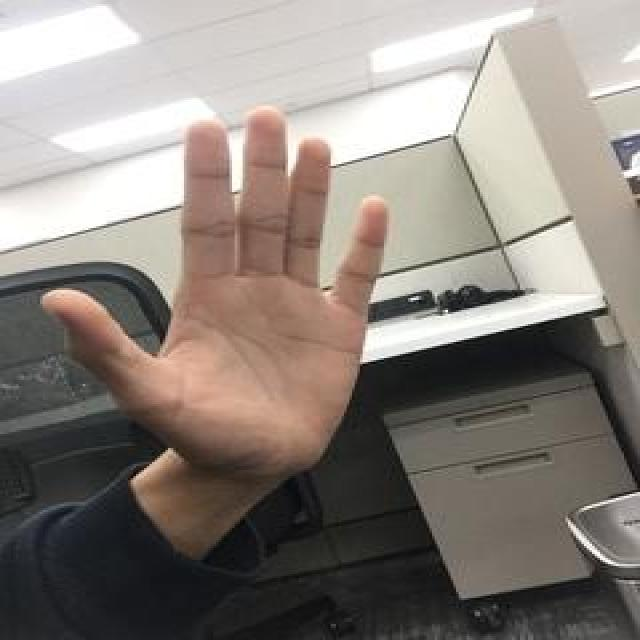hand: (34, 108, 402, 468)
